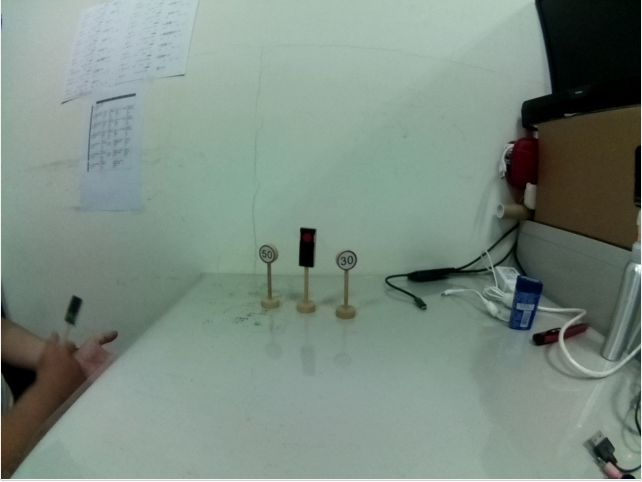Green: (60, 292, 87, 326)
Red: (295, 227, 319, 271)
Speed30: (336, 248, 358, 271)
Speed50: (255, 240, 281, 263)
